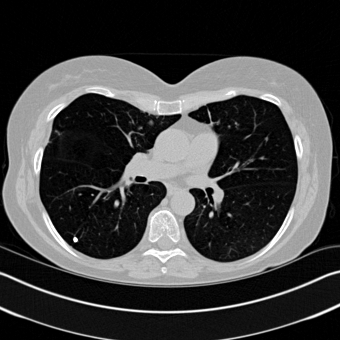nodule: (72, 237, 78, 243)
